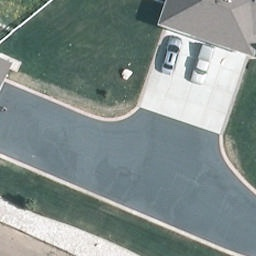car: (161, 36, 184, 77)
pickup: (191, 45, 215, 87)
